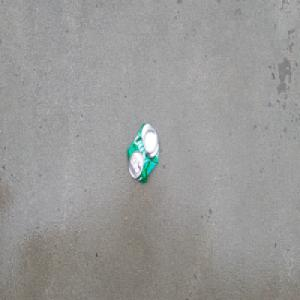SodaCan: (126, 122, 160, 185)
